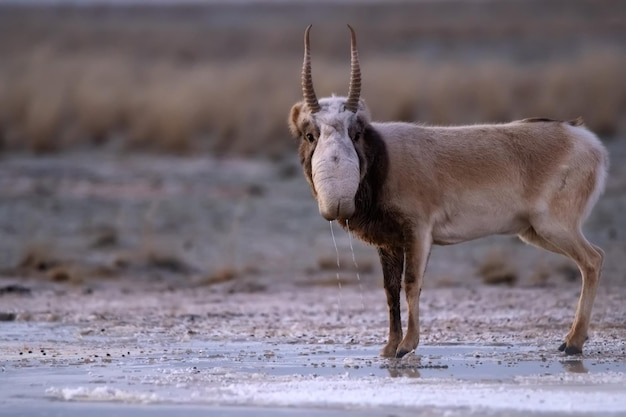saiga: (284, 21, 609, 368)
